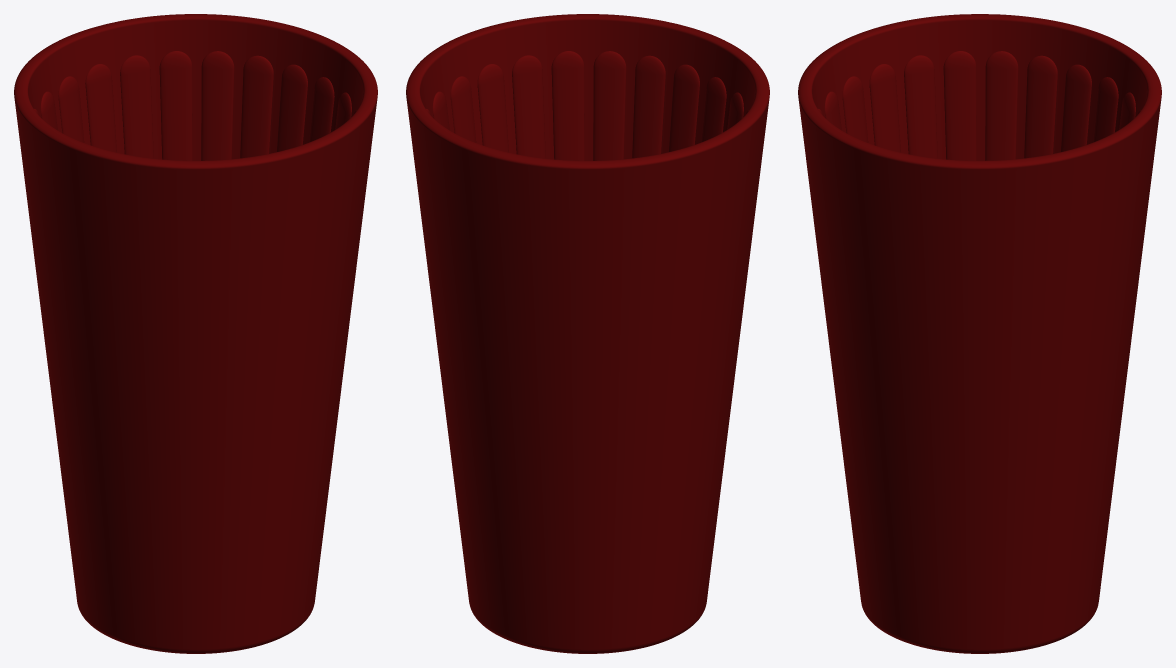
3 views of the same model, side by side, from view 1: azimuth 30°, elevation 25°; view 2: azimuth 150°, elevation 25°; view 3: azimuth 270°, elevation 25° (orthographic).
Bounding box in the file's own units: 0.077 × 0.121 × 0.077.
